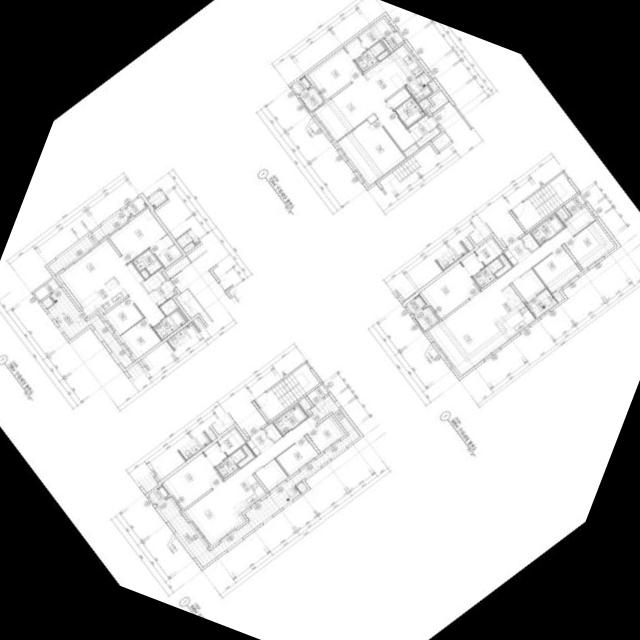background: (0, 0, 640, 640)
space_balconi: (155, 395, 359, 567), (46, 287, 133, 368), (47, 208, 131, 274), (525, 288, 556, 318), (405, 72, 431, 102), (298, 86, 322, 111), (413, 306, 437, 330)
space_bedroom: (337, 119, 405, 185), (163, 452, 222, 509), (420, 262, 479, 319), (108, 208, 166, 263), (307, 48, 361, 100), (564, 221, 614, 269), (532, 246, 580, 293), (119, 318, 160, 359), (275, 436, 317, 475), (103, 297, 142, 335), (306, 417, 342, 452)
space_dressroom: (343, 18, 392, 59), (203, 428, 245, 466), (460, 238, 502, 276), (149, 234, 182, 268)
space_front: (407, 114, 439, 147), (245, 428, 273, 456), (502, 238, 530, 266), (148, 279, 175, 306)
space_kitchen: (364, 44, 423, 100), (481, 284, 535, 340), (78, 276, 127, 315), (224, 474, 265, 514)
space_living_room: (427, 207, 594, 375), (184, 417, 315, 545), (58, 239, 165, 327), (313, 75, 415, 151)
space_other: (512, 269, 545, 302), (254, 459, 287, 491), (34, 278, 59, 301), (386, 87, 411, 109), (141, 271, 165, 293), (563, 194, 585, 215), (428, 90, 448, 113), (306, 384, 327, 404), (237, 444, 254, 467), (494, 254, 511, 277), (521, 232, 539, 252), (431, 132, 451, 150), (264, 423, 282, 442), (384, 31, 403, 49), (159, 298, 177, 316), (403, 143, 418, 157), (299, 397, 311, 410), (556, 207, 568, 220), (296, 481, 307, 493), (41, 297, 53, 308), (376, 50, 388, 61), (418, 98, 429, 110), (552, 291, 562, 302), (427, 81, 437, 92), (140, 269, 149, 279)
space_outdoor_room: (126, 196, 147, 216), (148, 485, 168, 504), (405, 295, 425, 314), (291, 76, 310, 94)
space_staircase: (511, 173, 577, 231), (254, 363, 319, 421)
space_toilet: (273, 404, 307, 435), (152, 309, 186, 340), (530, 214, 564, 245), (214, 448, 246, 479), (354, 41, 385, 72), (472, 258, 503, 288), (394, 97, 424, 127), (131, 248, 162, 275)
